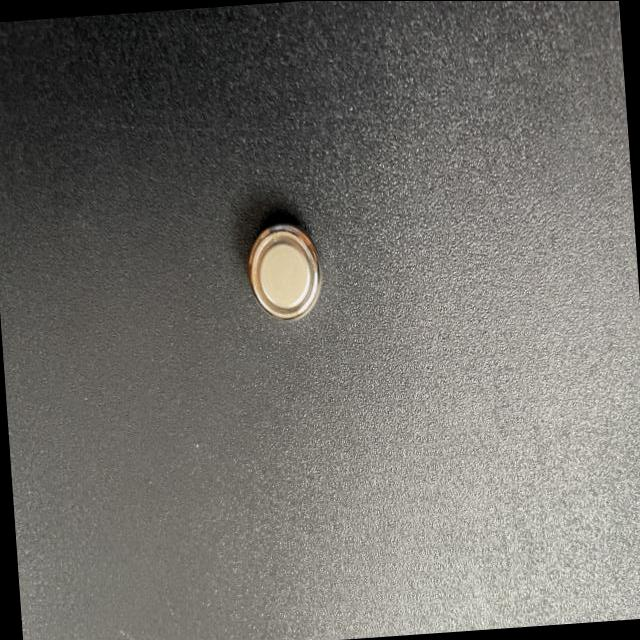COIN: (240, 213, 328, 324)
